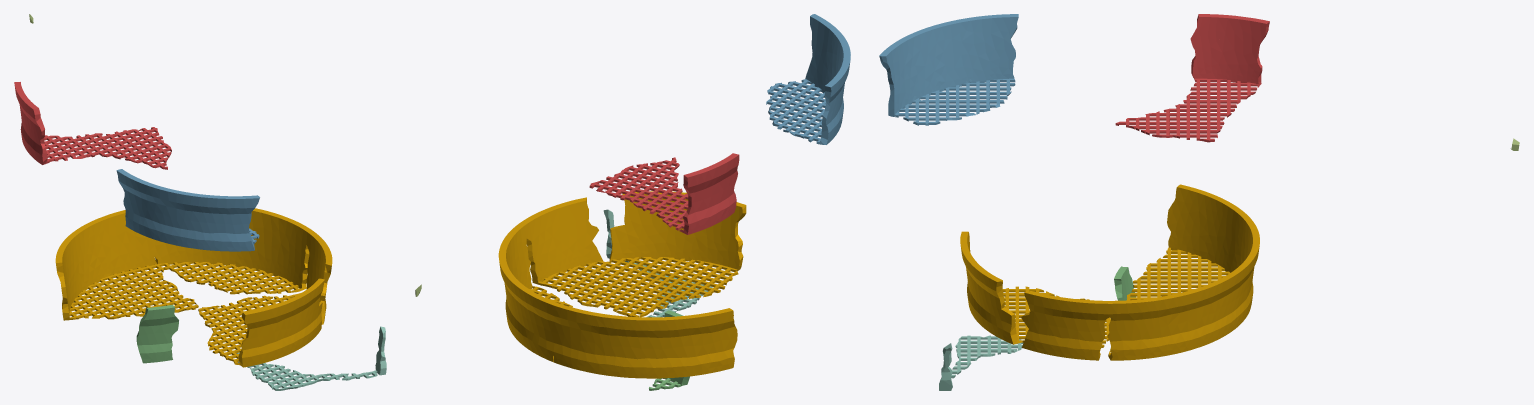
The model's file is fractured_79_6pcs_transformed.glb.
The picture shows the model from 3 angles, left to right: view 1: azimuth 30°, elevation 25°; view 2: azimuth 150°, elevation 25°; view 3: azimuth 270°, elevation 25°; orthographic projection. The views are drawn at different scales.
Visible parts, largest first — view 1: piece_0.obj, piece_2.obj, piece_1.obj, piece_3.obj, piece_4.obj; view 2: piece_0.obj, piece_1.obj, piece_2.obj, piece_4.obj, piece_3.obj; view 3: piece_0.obj, piece_2.obj, piece_1.obj, piece_4.obj.
Part boxes in pixels (left/top/right/bottom): piece_0.obj: left=55, top=208, right=332, bottom=367; piece_2.obj: left=116, top=169, right=259, bottom=251; piece_1.obj: left=14, top=82, right=171, bottom=169; piece_3.obj: left=136, top=304, right=178, bottom=363; piece_4.obj: left=236, top=326, right=386, bottom=390; piece_0.obj: left=498, top=191, right=746, bottom=378; piece_1.obj: left=589, top=153, right=739, bottom=234; piece_2.obj: left=766, top=14, right=850, bottom=144; piece_4.obj: left=603, top=209, right=712, bottom=317; piece_3.obj: left=649, top=310, right=689, bottom=390; piece_0.obj: left=960, top=184, right=1259, bottom=360; piece_2.obj: left=879, top=14, right=1018, bottom=125; piece_1.obj: left=1115, top=14, right=1269, bottom=142; piece_4.obj: left=939, top=335, right=1023, bottom=390.
Bounding box in the file's own units: 1 × 0.9965 × 2.14.
